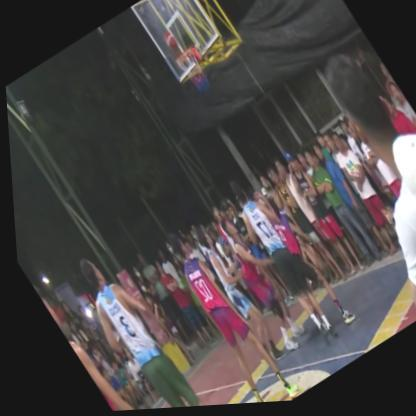basketball: (158, 29, 182, 57)
rim: (165, 38, 218, 104)
